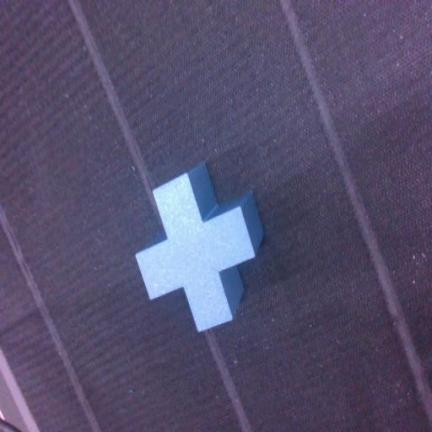cross: (136, 164, 263, 330)
